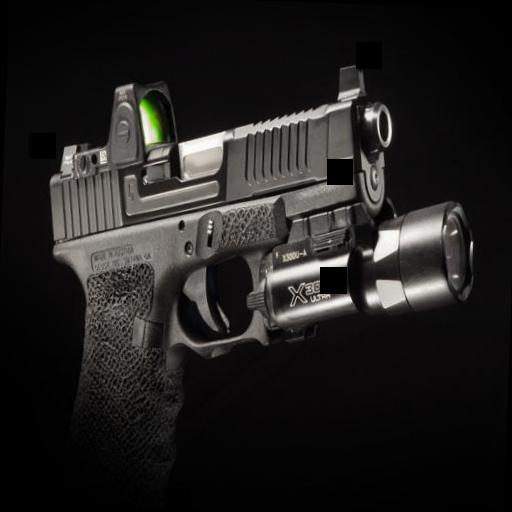Handgun: (34, 27, 484, 512)
